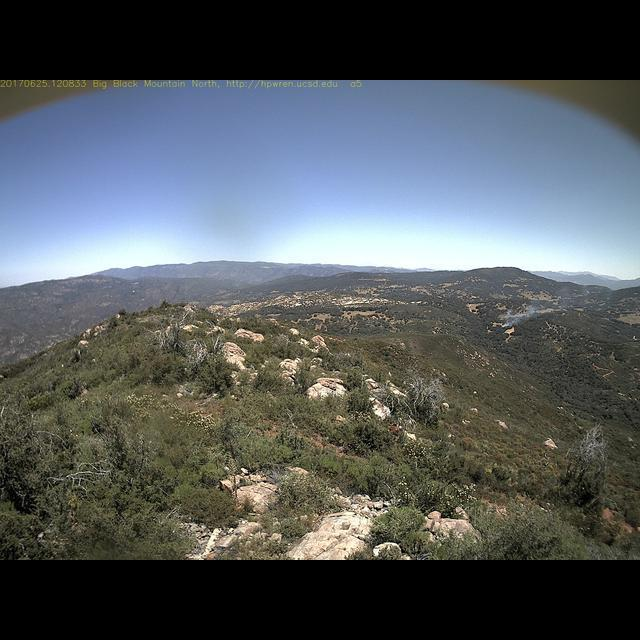Smoke: (498, 295, 557, 329)
